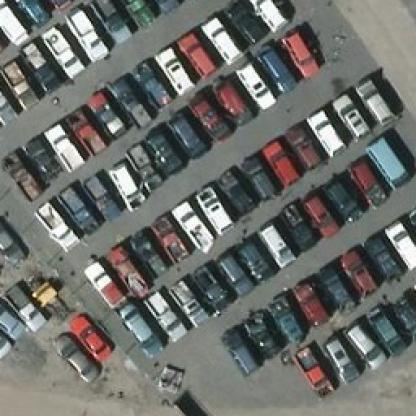car: (76, 172, 124, 226), (52, 184, 99, 237), (96, 156, 143, 209), (60, 9, 107, 62), (350, 74, 396, 128), (30, 202, 76, 255), (186, 186, 233, 235), (182, 266, 228, 315), (195, 14, 241, 62), (209, 250, 254, 299), (138, 290, 182, 340), (230, 152, 274, 202), (324, 92, 368, 142), (128, 60, 174, 107), (171, 32, 216, 80), (52, 333, 96, 382), (63, 312, 107, 361), (83, 260, 127, 309), (125, 233, 169, 282), (211, 170, 255, 219), (258, 138, 302, 187), (300, 107, 344, 156), (255, 50, 301, 96), (279, 32, 325, 78), (0, 152, 46, 198), (22, 134, 68, 180), (82, 89, 128, 135), (149, 46, 195, 92), (117, 306, 161, 354), (161, 278, 205, 326), (102, 246, 146, 294), (146, 218, 190, 266), (280, 124, 324, 172), (171, 199, 214, 248), (233, 63, 278, 109), (41, 123, 86, 169), (61, 107, 106, 153), (105, 81, 150, 127), (318, 333, 358, 384), (344, 323, 384, 374), (221, 0, 267, 44), (292, 348, 332, 398), (44, 26, 83, 76), (338, 247, 376, 298), (376, 219, 414, 270), (362, 234, 400, 284), (366, 304, 404, 354), (142, 132, 184, 176), (121, 145, 162, 188), (232, 240, 272, 284), (255, 222, 294, 266), (278, 203, 317, 247), (299, 194, 338, 238), (325, 182, 364, 226), (291, 281, 330, 325), (348, 159, 386, 203), (368, 140, 406, 184), (218, 328, 256, 372), (262, 298, 300, 342), (314, 266, 352, 310), (190, 99, 229, 138), (210, 82, 249, 121), (0, 62, 34, 106), (19, 42, 53, 86), (164, 116, 203, 154), (242, 308, 275, 350)
